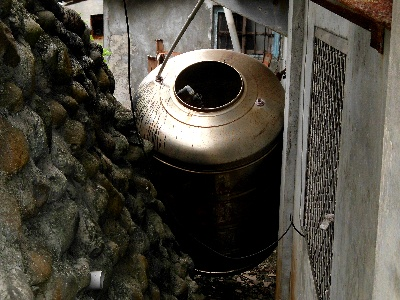water_tower: (131, 50, 290, 276)
